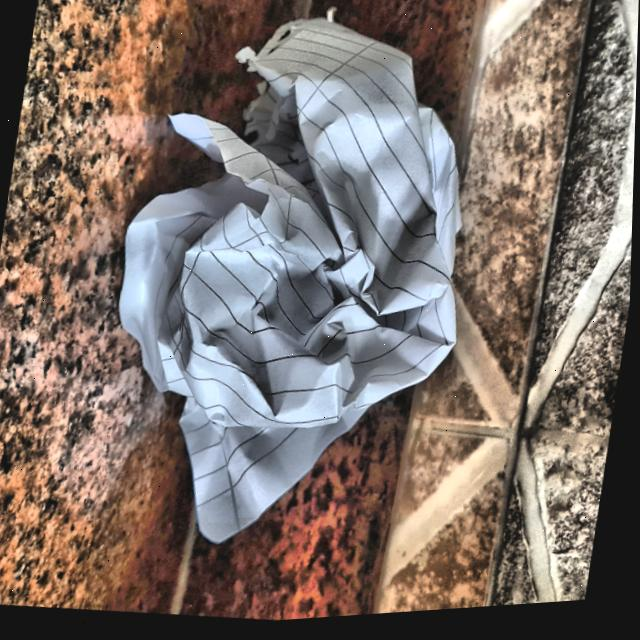paper: (61, 0, 501, 566)
